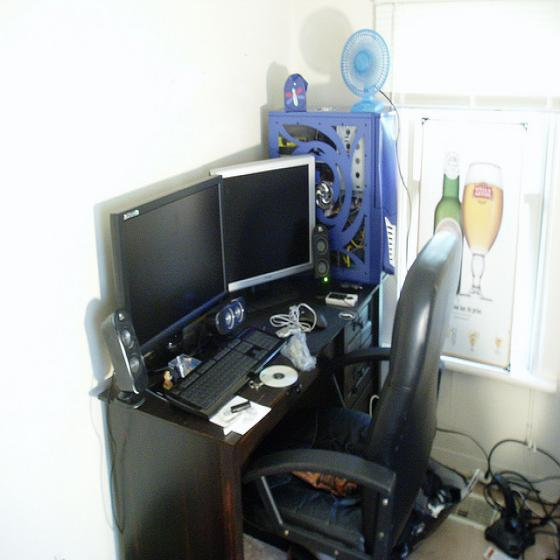bottle: (433, 137, 464, 294)
cell phone: (325, 292, 358, 308)
chair: (241, 229, 461, 560)
keyboard: (166, 323, 286, 420)
mouse: (299, 304, 327, 331)
tv: (107, 169, 231, 357), (219, 152, 316, 292)
